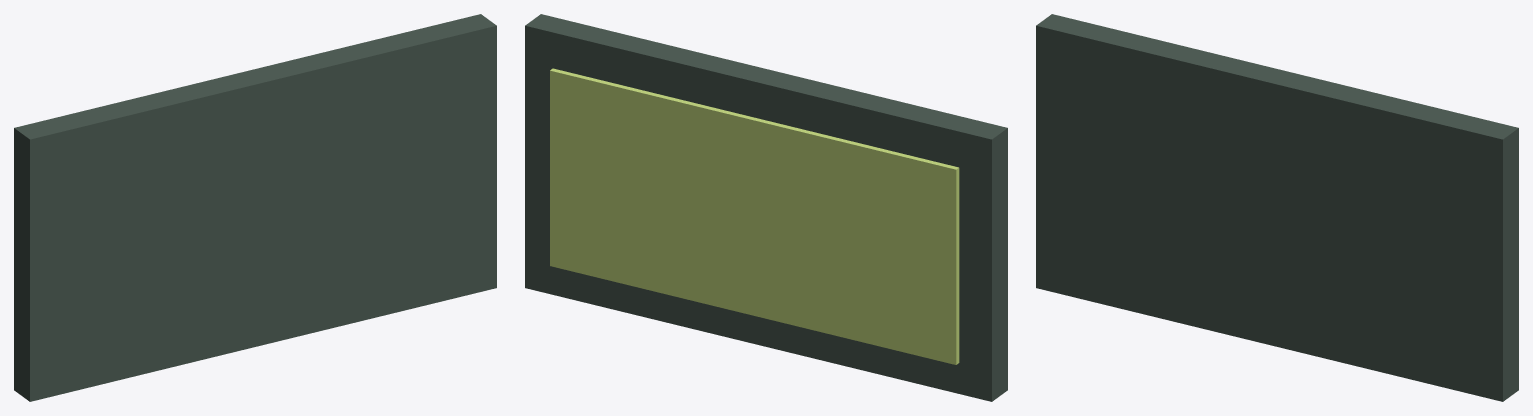
Rendered from scoreboard.glb.
3 renders of one model, left to right at view 1: azimuth 30°, elevation 25°; view 2: azimuth 150°, elevation 25°; view 3: azimuth 330°, elevation 25°, orthographic.
Visible parts, largest first — view 1: ENV_Scoreboard_Frame; view 2: ENV_Scoreboard_Display, ENV_Scoreboard_Frame; view 3: ENV_Scoreboard_Frame.
Part boxes in pixels (<box>): ENV_Scoreboard_Frame: <box>14,14,496,401</box>; ENV_Scoreboard_Display: <box>550,68,959,364</box>; ENV_Scoreboard_Frame: <box>525,14,1007,401</box>; ENV_Scoreboard_Frame: <box>1036,14,1518,401</box>.
Bounding box in the file's own units: 2.7 × 1.45 × 0.215.
